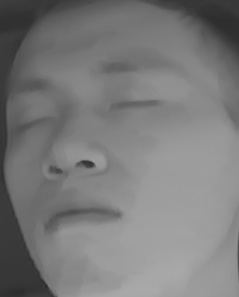blink: (103, 95, 165, 123), (10, 108, 63, 134)
mouth: (41, 190, 126, 236)
